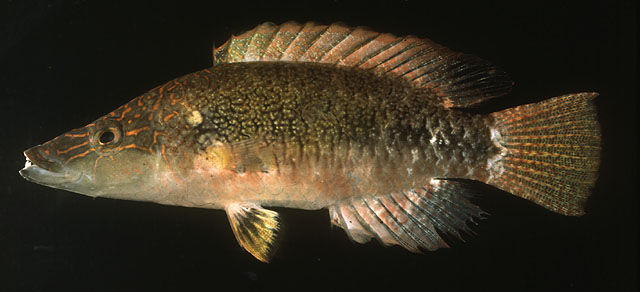fish: (20, 22, 604, 263)
